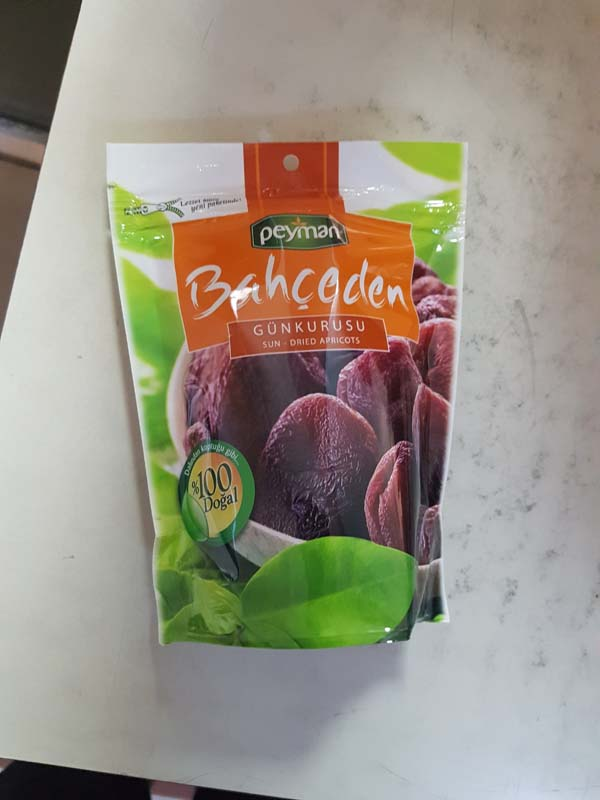bahcedengunkurusu: (95, 132, 469, 647)
